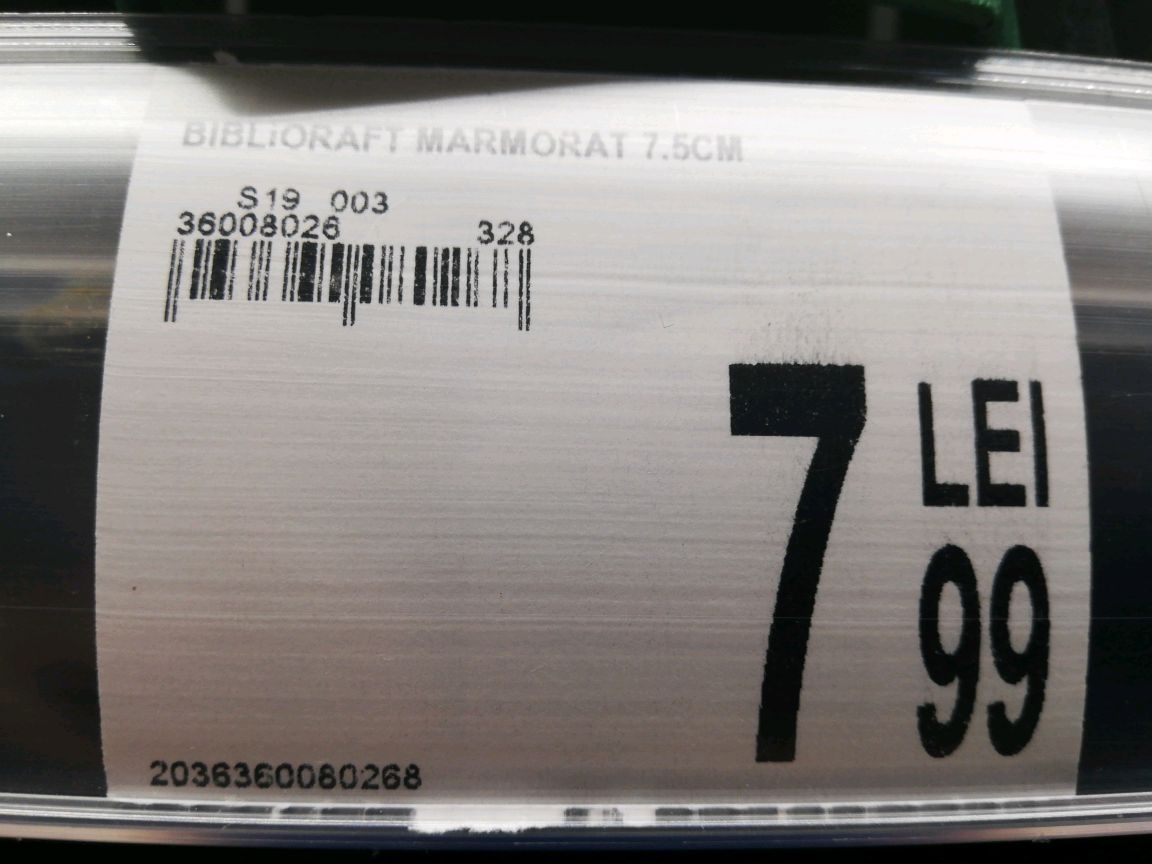price_bani: (897, 532, 1064, 770)
price_lei: (703, 353, 879, 772)
price_tag: (82, 41, 1096, 828)
product_id: (134, 753, 437, 796)
product_name: (165, 104, 761, 173)
